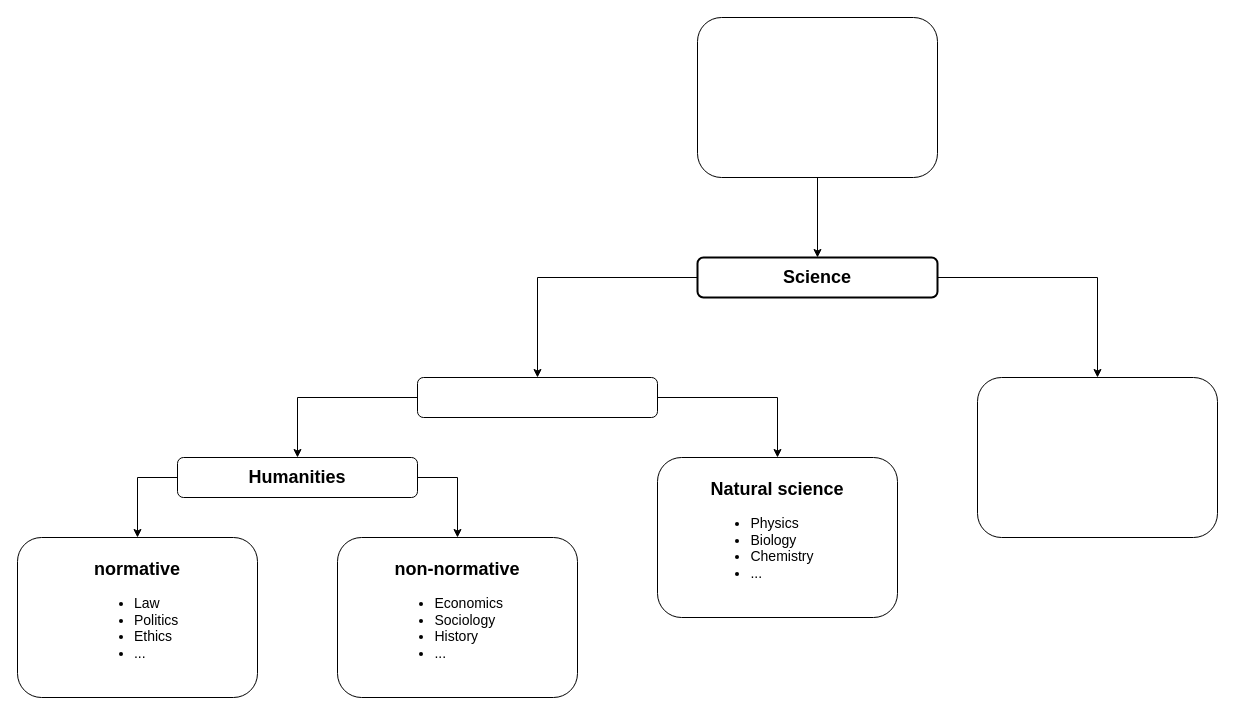
Some shapes in this 1235 by 715 pixel diagram are drawn without their labels. Each missing label, with the centre of its shape:
"Applied science" goes at point 537,397.
"Formal science Mathematics Logic Game theory ..." goes at point 1097,457.
"Metascience Philosophy of science Sociology of science History of science ..." goes at point 817,97.
